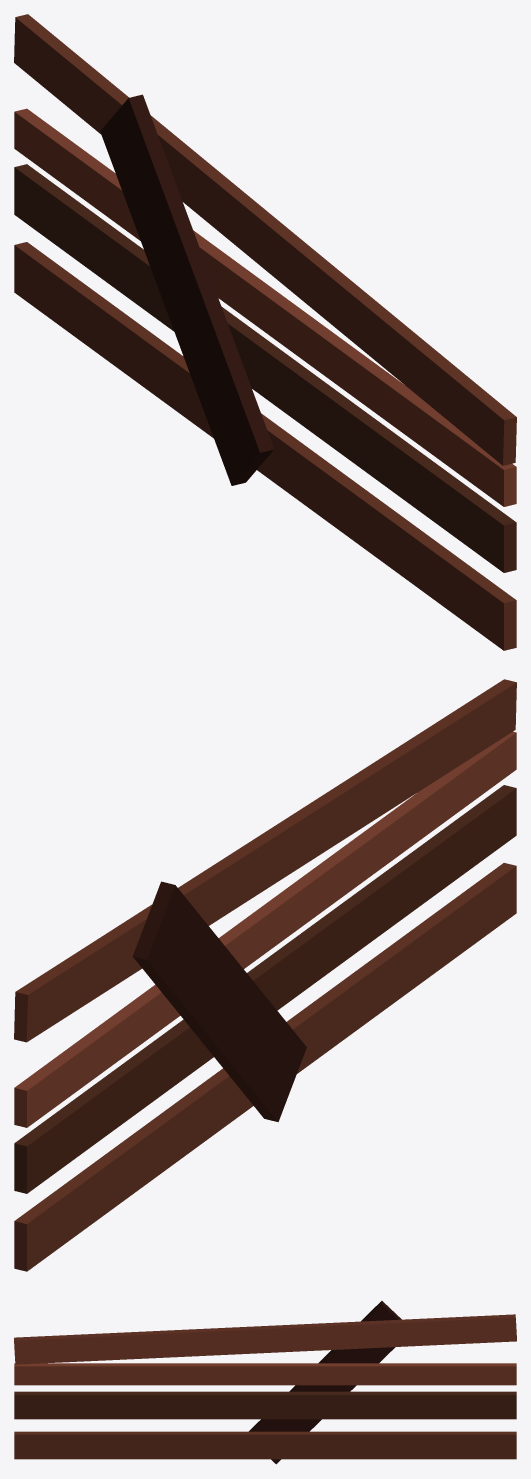
File: SM_Barriers_18.fbx
3 views of the same model, one above another, from view 1: azimuth 30°, elevation 25°; view 2: azimuth 150°, elevation 25°; view 3: azimuth 270°, elevation 25° (orthographic). The views are drawn at different scales.
Visible parts, largest first — view 1: SM_Barriers_18; view 2: SM_Barriers_18; view 3: SM_Barriers_18.
Part boxes in pixels (x1,y1,x2,y2): SM_Barriers_18: (14, 14, 516, 650); SM_Barriers_18: (14, 679, 516, 1271); SM_Barriers_18: (14, 1301, 516, 1464).
Bounding box in the file's own units: 7.02 × 70.48 × 200.
